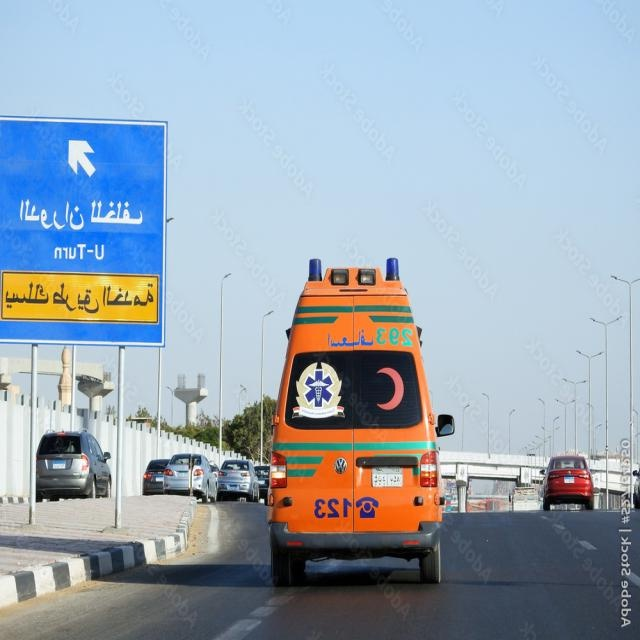Ambulance: (267, 256, 455, 586)
car: (36, 428, 112, 501), (542, 455, 595, 510), (163, 452, 217, 503), (218, 458, 261, 502), (144, 458, 171, 494), (254, 464, 270, 497)
